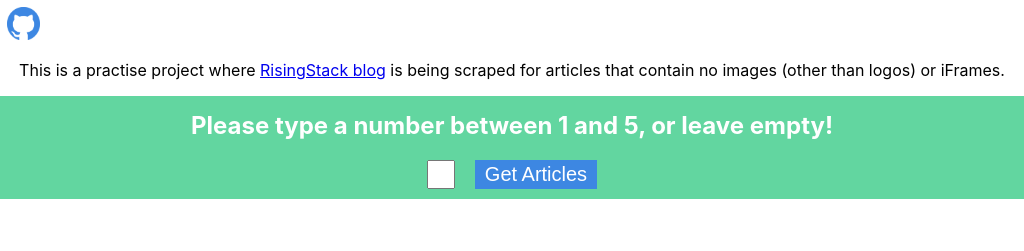
it: playing with describe › renders api response
Type "1" into the field at (441, 174), box [427,160,455,189]
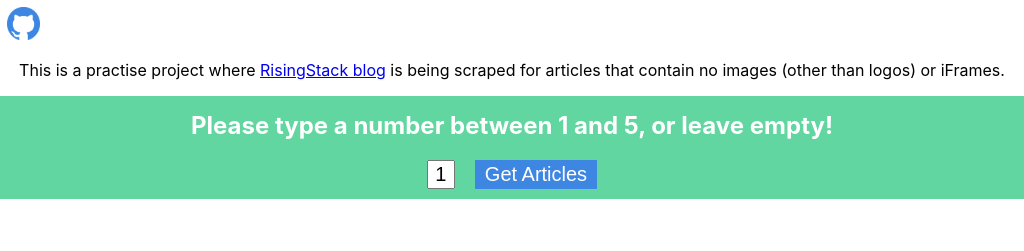
Click the button "Get Articles" at (536, 174), box [475,160,597,189]
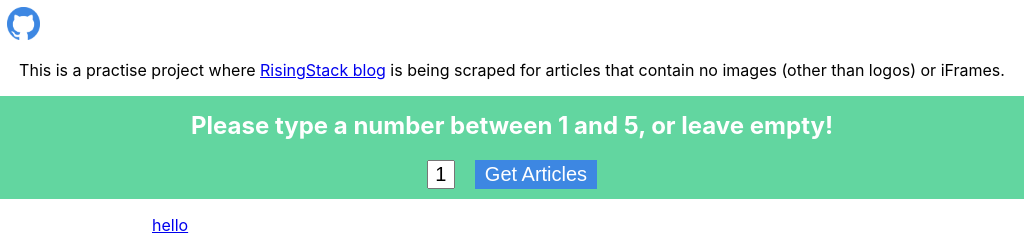
expect the link "hello" is shown: met, box [152,215,188,235]
